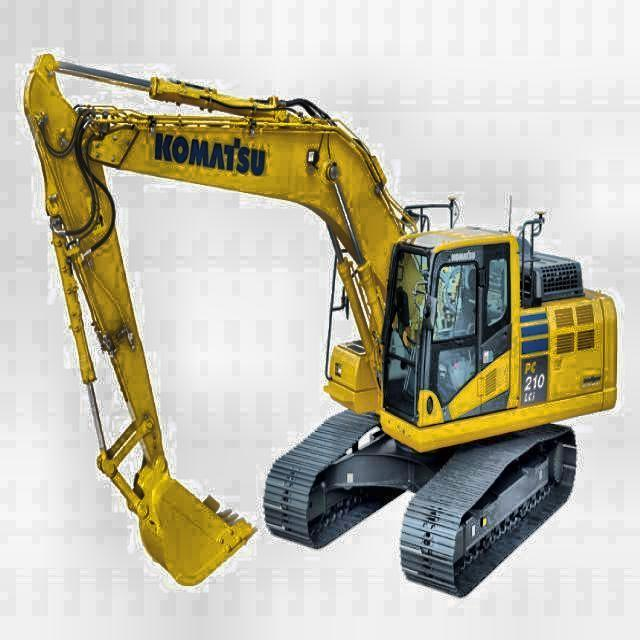excavator: (20, 49, 620, 599)
